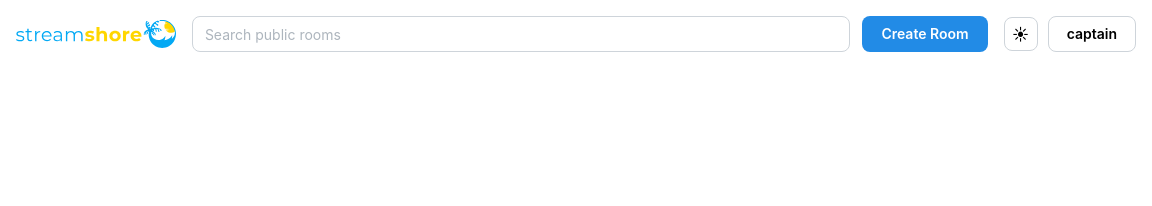
Test: PrimaryNavigation › closes search results when focus leaves the search boundary
Type "blue" into the search field labelled "Search public rooms".
click(521, 34); type("blue")  # box x1=192 y1=16 x2=850 y2=52
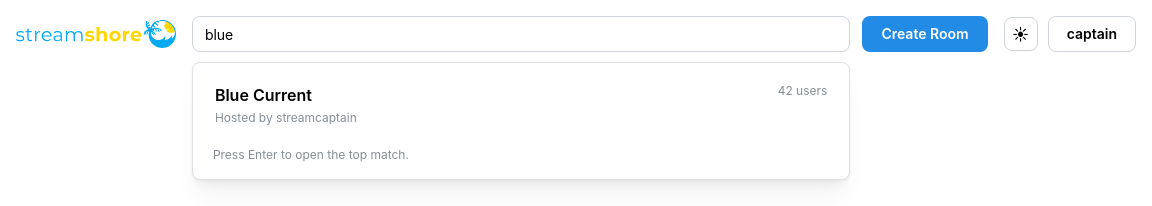
expect the link "Blue Current Hosted by streamcaptain 42 users" is shown: met, box x1=203 y1=73 x2=839 y2=137
Leave the search field named "Search public rooms", box x1=192 y1=16 x2=850 y2=52
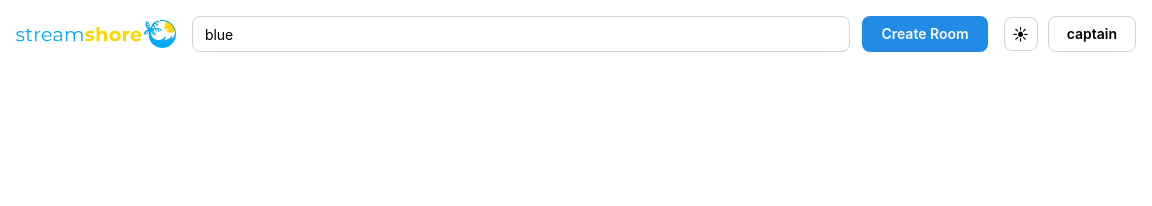
expect the link "Blue Current" is gone: met
